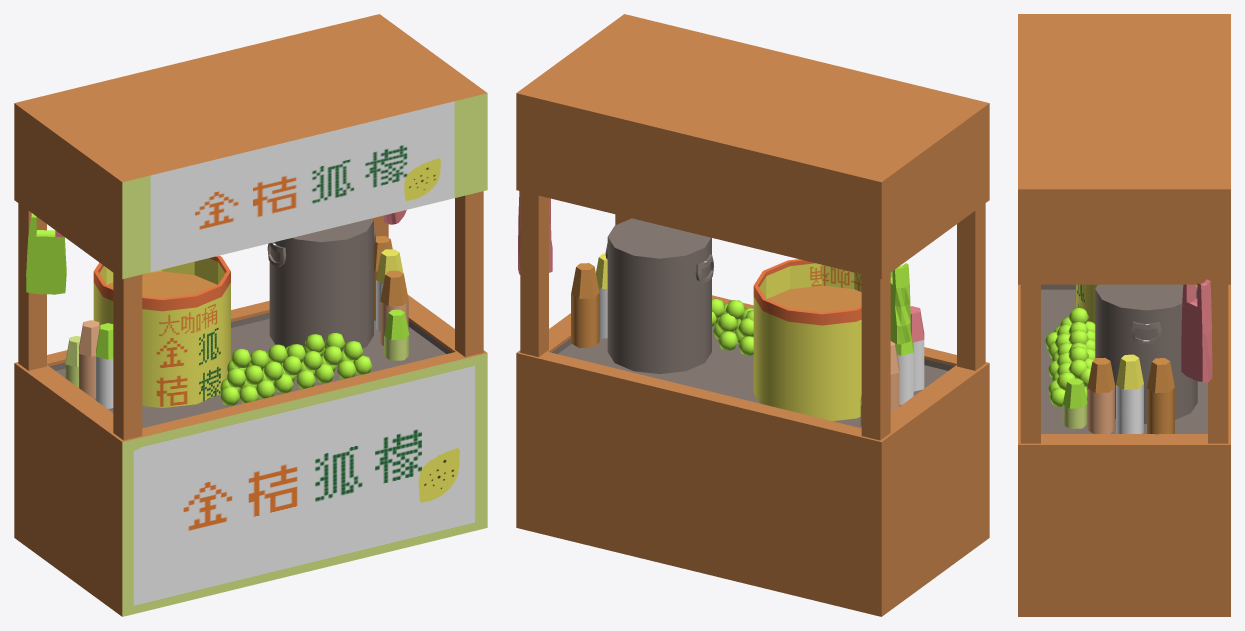
File: DaGiouTone.fbx
The picture shows the model from 3 angles, left to right: view 1: azimuth 30°, elevation 25°; view 2: azimuth 150°, elevation 25°; view 3: azimuth 270°, elevation 25°; orthographic projection.
Visible parts, largest first — view 1: Box001; view 2: Box001; view 3: Box001.
Boxes of the visible parts, x1=… form: Box001: x1=14, y1=14, x2=487, y2=616; Box001: x1=516, y1=14, x2=989, y2=616; Box001: x1=1018, y1=14, x2=1230, y2=616.
Size of the model in its own units: 52.65 by 56.59 by 25.53.
Materials: 1 (1 with a texture image).
